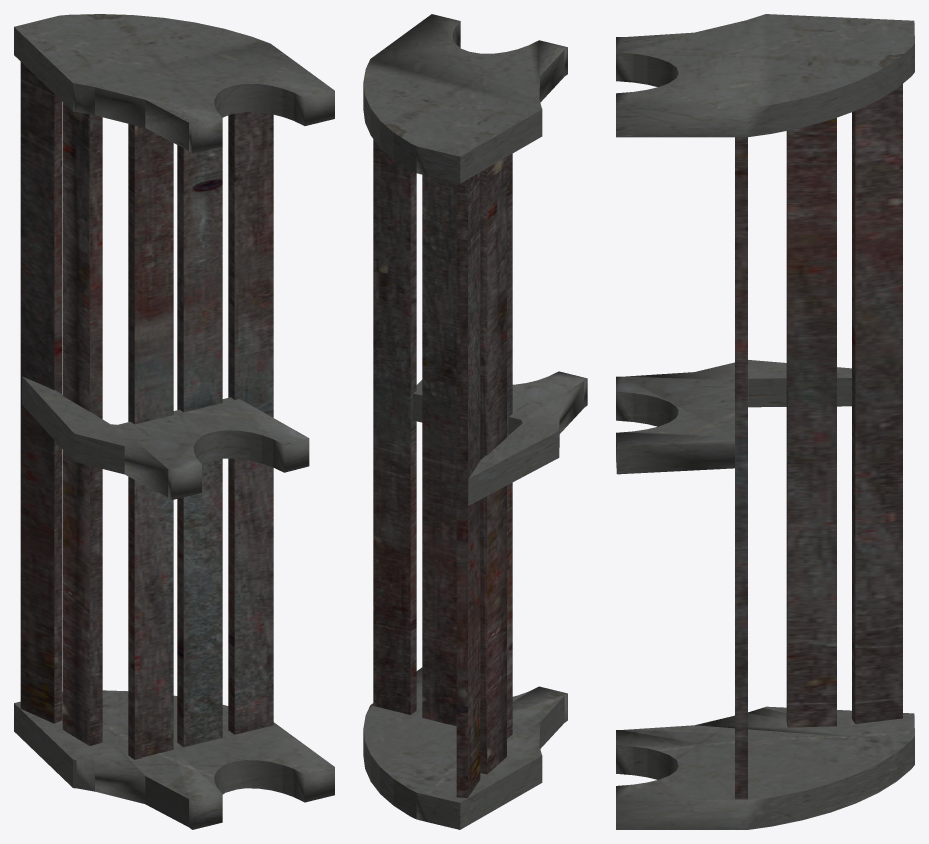
The model's file is Bench01.fbx.
The picture shows the model from 3 angles, left to right: view 1: azimuth 30°, elevation 25°; view 2: azimuth 150°, elevation 25°; view 3: azimuth 270°, elevation 25°; orthographic projection. The views are drawn at different scales.
Visible parts, largest first — view 1: Bench01; view 2: Bench01; view 3: Bench01.
Boxes of the visible parts, x1,y1,x2,y2 form: Bench01: (14,14,334,829); Bench01: (363,14,587,829); Bench01: (616,14,914,829).
Bounding box in the file's own units: 1.16 × 3.98 × 1.49.
Materials: 1 (1 with a texture image).
